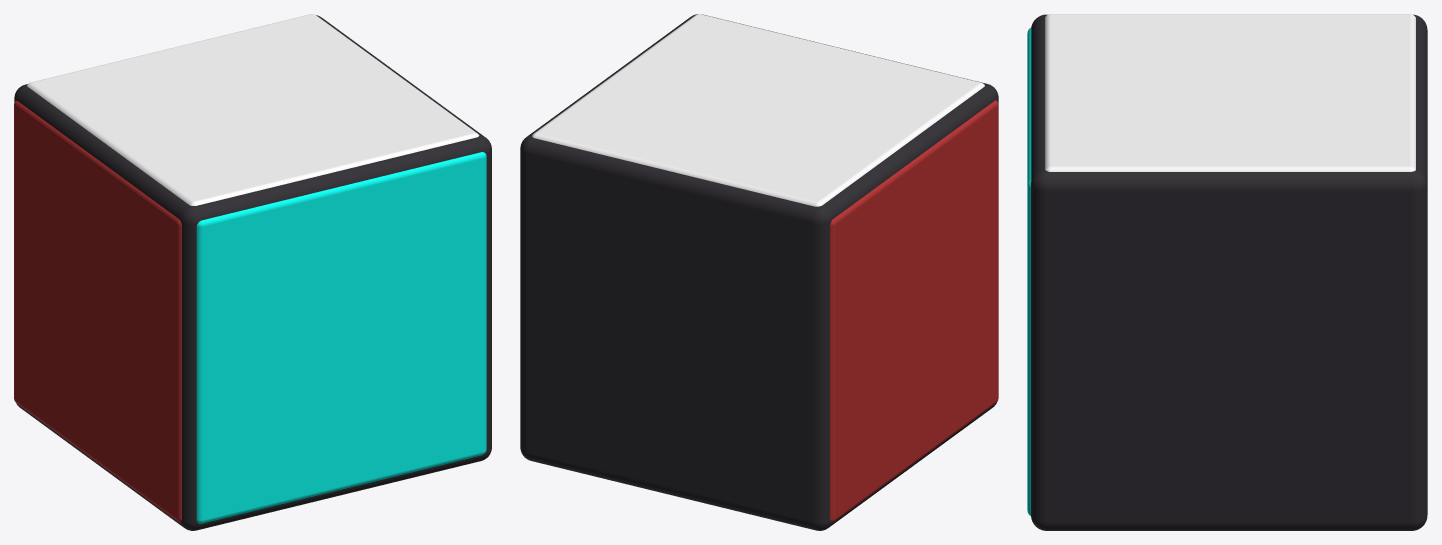
Rendered from wrbCorner.obj.
3 views of the same model, side by side, from view 1: azimuth 30°, elevation 25°; view 2: azimuth 150°, elevation 25°; view 3: azimuth 270°, elevation 25° (orthographic). The views are drawn at different scales.
Visible parts, largest first — view 1: 003_blue_(face), 001_red, 002_white, 000_Base; view 2: 000_Base, 001_red, 002_white; view 3: 000_Base, 002_white, 003_blue_(face).
Part boxes in pixels (bbox=[...]): 003_blue_(face): bbox=[196, 152, 486, 523]; 001_red: bbox=[14, 100, 181, 522]; 002_white: bbox=[27, 14, 479, 205]; 000_Base: bbox=[14, 15, 491, 530]; 000_Base: bbox=[520, 14, 998, 530]; 001_red: bbox=[830, 100, 998, 522]; 002_white: bbox=[532, 14, 984, 206]; 000_Base: bbox=[1031, 14, 1427, 530]; 002_white: bbox=[1045, 14, 1415, 171]; 003_blue_(face): bbox=[1027, 27, 1031, 515].
Bounding box in the file's own units: 101 × 101 × 101.
